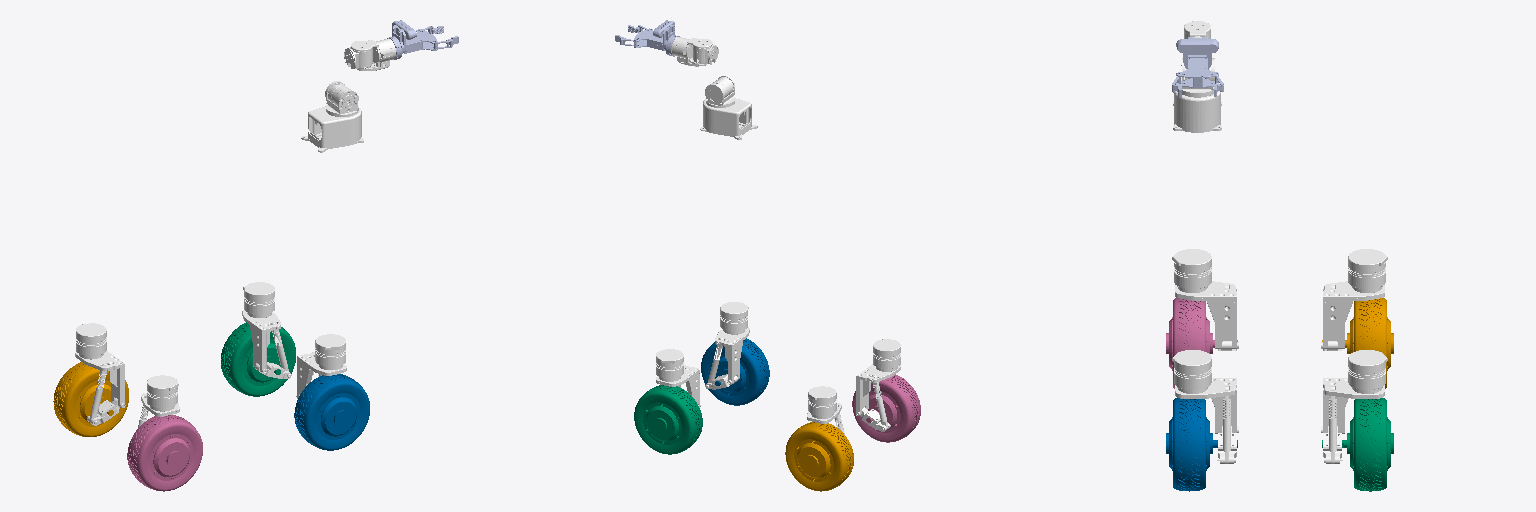
--- What the picture shows (computed from the rendered views, not written in the file) ---
3 views of the same robot in one strip: view 1: azimuth 30°, elevation 25°; view 2: azimuth 150°, elevation 25°; view 3: azimuth 270°, elevation 25° (orthographic).
Robot: AIRBOT_V3_v2 — 24 links, 23 joints (18 revolute, 5 fixed); root link car_base_link; default pose: every joint at zero.
Visible links, largest first — view 1: wheel2, wheel3, wheel4, wheel1, steering4, steering1, arm_base, steering2, steering3, gripper_link, link1, link5; view 2: wheel4, wheel1, wheel3, wheel2, steering3, steering2, arm_base, steering1, steering4, gripper_link, link1, link5; view 3: steering1, steering2, wheel1, wheel2, steering3, steering4, wheel3, wheel4, arm_base, gripper_link.
Boxes of the visible links, box(x1,y1,x2,y2) form: wheel2: box(294, 374, 369, 450); wheel3: box(127, 415, 202, 491); wheel4: box(53, 362, 128, 436); wheel1: box(221, 322, 295, 396); steering4: box(75, 323, 125, 425); steering1: box(242, 282, 291, 378); arm_base: box(301, 106, 363, 152); steering2: box(296, 334, 346, 398); steering3: box(138, 375, 179, 427); gripper_link: box(387, 20, 437, 59); link1: box(325, 81, 358, 116); link5: box(351, 38, 395, 70); wheel4: box(785, 422, 853, 491); wheel1: box(634, 385, 702, 454); wheel3: box(852, 374, 920, 442); wheel2: box(701, 338, 769, 405); steering3: box(856, 339, 900, 431); steering2: box(705, 302, 749, 389); arm_base: box(700, 98, 757, 139); steering1: box(656, 349, 700, 407); steering4: box(807, 386, 844, 434); gripper_link: box(634, 20, 679, 56); link1: box(705, 76, 734, 107); link5: box(672, 37, 712, 66); steering1: box(1321, 350, 1387, 463); steering2: box(1172, 350, 1238, 463); wheel1: box(1322, 398, 1393, 491); wheel2: box(1166, 398, 1237, 491); steering3: box(1172, 249, 1238, 350); steering4: box(1321, 249, 1387, 350); wheel3: box(1166, 298, 1237, 388); wheel4: box(1322, 298, 1393, 388); arm_base: box(1173, 77, 1221, 132); gripper_link: box(1176, 37, 1218, 87).
Bounding box of the posed robot: 0.9591 × 0.48 × 1.14 m (x, y, z).
Meshes: 16 distinct files referenced, 18 mesh visuals loaded (2 binary STL, 11 OBJ); not drawn: 3 (reference not matched to a file when rendering).

URDF robot description (AIRBOT_V3_v2):
<?xml version="1.0" encoding="utf-8"?>
<!-- This URDF was automatically created by SolidWorks to URDF Exporter! Originally created by Stephen Brawner ([email redacted]) 
     Commit Version: 1.6.0-4-g7f85cfe  Build Version: 1.6.7995.38578
     For more information, please see http://wiki.ros.org/sw_urdf_exporter -->
<robot
  name="AIRBOT_V3_v2">
  <mujoco>
    <compiler meshdir="../all/" balanceinertia="true" discardvisual="false" />
  </mujoco>
  <link
    name="car_base_link">
    <inertial>
      <origin
        xyz="-0.0124323372191195 -0.000168577813282202 0.0371705356530249"
        rpy="0 0 0" />
      <mass
        value="0.36733" />
      <inertia
        ixx="0.00045941"
        ixy="0.00000455"
        ixz="-0.00000225"
        iyy="0.00072656"
        iyz="-0.00000316"
        izz="0.00089115" />
    </inertial>
    <visual>
      <origin
        xyz="0 0 0"
        rpy="3.14159 0 0" />
      <geometry>
        <mesh
          filename="../all/rm2_1122.obj" />
      </geometry>
      <material
        name="diffuse_Black">
      </material>
    </visual>
    <collision>
      <origin
        xyz="0 0 0"
        rpy="0 0 0" />
      <geometry>
        <mesh
          filename="../all/rm2_1122.obj" />
      </geometry>
    </collision>
  </link>
  <link
    name="steering1">
    <inertial>
      <origin
        xyz="-0.0124323372191195 -0.000168577813282202 0.0371705356530249"
        rpy="0 0 0" />
      <mass
        value="0.36733" />
      <inertia
        ixx="0.00045941"
        ixy="0.00000455"
        ixz="-0.00000225"
        iyy="0.00072656"
        iyz="-0.00000316"
        izz="0.00089115" />
    </inertial>
    <visual>
      <origin
        xyz="-0.0025 -0.028 -0.1"
        rpy="0 0 0" />
      <geometry>
        <mesh
          filename="../all/steering_left_front.STL" />
      </geometry>
      <material
        name="">
        <color
          rgba="1 1 1 1" />
      </material>
    </visual>
    <collision>
      <origin
        xyz="-0.0025 -0.028 -0.1"
        rpy="0 0 0" />
      <geometry>
        <mesh
          filename="../all/steering_left_front.STL" />
      </geometry>
    </collision>
  </link>
  <joint
    name="steer_joint1"
    type="revolute">
    <origin
      xyz="0.2585 0.184 -0.228"
      rpy="0 0 0" />
    <parent
      link="car_base_link" />
    <child
      link="steering1" />
    <axis
      xyz="0 0 1" />

    <limit
      lower="-10"
      upper="10"
      effort="100"
      velocity="110" />
  </joint>
  <link
    name="wheel1">
    <inertial>
      <origin
        xyz="-0.0124323372191195 -0.000168577813282202 0.0371705356530249"
        rpy="0 0 0" />
      <mass
        value="0.36733" />
      <inertia
        ixx="0.00045941"
        ixy="0.00000455"
        ixz="-0.00000225"
        iyy="0.00072656"
        iyz="-0.00000316"
        izz="0.00089115" />
    </inertial>
    <visual>
      <origin
        xyz="0 0 0"
        rpy="0 3.1416 0" />
      <geometry>
        <mesh
          filename="../all/wheel.obj" />
      </geometry>
      <material
        name="diffuse_Black">
      </material>
    </visual>
    <collision>
      <origin
        xyz="0 0 0"
        rpy="0 3.1416 0" />
      <geometry>
        <cylinder 
          radius = "0.1"
          length = "0.1"/>
      </geometry>
    </collision>
  </link>
  <joint
    name="wheel_joint1"
    type="revolute">
    <origin
      xyz="0 -0.02 -0.185"
      rpy="1.5708 0 0" />
    <parent
      link="steering1" />
    <child
      link="wheel1" />
    <axis
      xyz="0 0 1" />
    <limit
      lower="-10"
      upper="10"
      effort="100"
      velocity="110" />
  </joint>
  
  
  
  <link
    name="steering2">
    <inertial>
      <origin
        xyz="-0.0124323372191195 -0.000168577813282202 0.0371705356530249"
        rpy="0 0 0" />
      <mass
        value="0.36733" />
      <inertia
        ixx="0.00045941"
        ixy="0.00000455"
        ixz="-0.00000225"
        iyy="0.00072656"
        iyz="-0.00000316"
        izz="0.00089115" />
    </inertial>
    <visual>
      <origin
        xyz="-0.0025 0.028 -0.1"
        rpy="0 0 3.1416" />
      <geometry>
        <mesh
          filename="../all/steering_right_front.STL" />
      </geometry>
      <material
        name="">
        <color
          rgba="1 1 1 1" />
      </material>
    </visual>
    <collision>
      <origin
        xyz="-0.0025 0.028 -0.1"
        rpy="0 0 3.1416" />
      <geometry>
        <mesh
          filename="../all/steering_right_front.STL" />
      </geometry>
    </collision>
  </link>
  <link
    name="wheel2">
    <inertial>
      <origin
        xyz="-0.0124323372191195 -0.000168577813282202 0.0371705356530249"
        rpy="0 0 0" />
      <mass
        value="0.36733" />
      <inertia
        ixx="0.00045941"
        ixy="0.00000455"
        ixz="-0.00000225"
        iyy="0.00072656"
        iyz="-0.00000316"
        izz="0.00089115" />
    </inertial>
    <visual>
      <origin
        xyz="0 0 0"
        rpy="0 0 0" />
      <geometry>
        <mesh
          filename="../all/wheel.obj" />
      </geometry>
      <material
        name="diffuse_Black">
      </material>
    </visual>
    <collision>
      <origin
        xyz="0 0 0"
        rpy="0 0 0" />
      <geometry>
        <cylinder 
            radius = "0.1"
            length = "0.1"/>
      </geometry>
    </collision>
  </link>
  <joint
    name="wheel_joint2"
    type="revolute">
    <origin
      xyz="0 0.02 -0.185"
      rpy="1.5708 0 0" />
    <parent
      link="steering2" />
    <child
      link="wheel2" />
    <axis
      xyz="0 0 1" />
    <limit
      lower="-10"
      upper="10"
      effort="100"
      velocity="110" />
  </joint>
  
  
  <joint
    name="steer_joint2"
    type="revolute">
    <origin
      xyz="0.2585 -0.184 -0.228"
      rpy="0 0 0" />
    <parent
      link="car_base_link" />
    <child
      link="steering2" />
    <axis
      xyz="0 0 1" />

    <limit
      lower="-10"
      upper="10"
      effort="100"
      velocity="110" />
  </joint>
  <link
    name="steering3">
    <inertial>
      <origin
        xyz="-0.0124323372191195 -0.000168577813282202 0.0371705356530249"
        rpy="0 0 0" />
      <mass
        value="0.36733" />
      <inertia
        ixx="0.00045941"
        ixy="0.00000455"
        ixz="-0.00000225"
        iyy="0.00072656"
        iyz="-0.00000316"
        izz="0.00089115" />
    </inertial>
    <visual>
      <origin
        xyz="-0.0025 0.028 -0.1"
        rpy="0 0 3.1416" />
      <geometry>
        <mesh
          filename="../all/steering_left_front.STL" />
      </geometry>
      <material
        name="">
        <color
          rgba="1 1 1 1" />
      </material>
    </visual>
    <collision>
      <origin
        xyz="-0.0025 0.028 -0.1"
        rpy="0 0 3.1416" />
      <geometry>
        <mesh
          filename="../all/steering_left_front.STL" />
      </geometry>
    </collision>
  </link>
  <joint
    name="steer_joint3"
    type="revolute">
    <origin
      xyz="-0.238 -0.184 -0.228"
      rpy="0 0 0" />
    <parent
      link="car_base_link" />
    <child
      link="steering3" />
    <axis
      xyz="0 0 1" />
    <limit
      lower="-10"
      upper="10"
      effort="100"
      velocity="110" />
  </joint>
  <link
    name="wheel3">
    <inertial>
      <origin
        xyz="-0.0124323372191195 -0.000168577813282202 0.0371705356530249"
        rpy="0 0 0" />
      <mass
        value="0.36733" />
      <inertia
        ixx="0.00045941"
        ixy="0.00000455"
        ixz="-0.00000225"
        iyy="0.00072656"
        iyz="-0.00000316"
        izz="0.00089115" />
    </inertial>
    <visual>
      <origin
        xyz="0 0 0"
        rpy="0 0 0" />
      <geometry>
        <mesh
          filename="../all/wheel.obj" />
      </geometry>
      <material
        name="diffuse_Black">
      </material>
    </visual>
    <collision>
      <origin
        xyz="0 0 0"
        rpy="0 0 0" />
      <geometry>
        <cylinder 
          radius = "0.1"
          length = "0.1"/>
      </geometry>
    </collision>
  </link>
  <joint
    name="wheel_joint3"
    type="revolute">
    <origin
      xyz="0 0.02 -0.185"
      rpy="1.5708 0 0" />
    <parent
      link="steering3" />
    <child
      link="wheel3" />
    <axis
      xyz="0 0 1" />
    <limit
      lower="-10"
      upper="10"
      effort="100"
      velocity="110" />
  </joint>
  
  
  <link
    name="steering4">
    <inertial>
      <origin
        xyz="-0.0124323372191195 -0.000168577813282202 0.0371705356530249"
        rpy="0 0 0" />
      <mass
        value="0.36733" />
      <inertia
        ixx="0.00045941"
        ixy="0.00000455"
        ixz="-0.00000225"
        iyy="0.00072656"
        iyz="-0.00000316"
        izz="0.00089115" />
    </inertial>
    <visual>
      <origin
        xyz="-0.0025 -0.028 -0.1"
        rpy="0 0 0" />
      <geometry>
        <mesh
          filename="../all/steering_right_front.STL" />
      </geometry>
      <material
        name="">
        <color
          rgba="1 1 1 1" />
      </material>
    </visual>
    <collision>
      <origin
        xyz="-0.0025 -0.028 -0.1"
        rpy="0 0 0" />
      <geometry>
        <mesh
          filename="../all/steering_right_front.STL" />
      </geometry>
    </collision>
  </link>
  <joint
    name="steer_joint4"
    type="revolute">
    <origin
      xyz="-0.238 0.184 -0.228"
      rpy="0 0 0" />
    <parent
      link="car_base_link" />
    <child
      link="steering4" />
    <axis
      xyz="0 0 1" />
    <limit
      lower="-10"
      upper="10"
      effort="100"
      velocity="110" />
  </joint>
  <link
    name="wheel4">
    <inertial>
      <origin
        xyz="-0.0124323372191195 -0.000168577813282202 0.0371705356530249"
        rpy="0 0 0" />
      <mass
        value="0.36733" />
      <inertia
        ixx="0.00045941"
        ixy="0.00000455"
        ixz="-0.00000225"
        iyy="0.00072656"
        iyz="-0.00000316"
        izz="0.00089115" />
    </inertial>
    <visual>
      <origin
        xyz="0 0 0"
        rpy="0 3.1416 0" />
      <geometry>
        <mesh
          filename="../all/wheel.obj" />
      </geometry>
      <material
        name="diffuse_Black">
      </material>
    </visual>
    <collision>
      <origin
        xyz="0 0 0"
        rpy="0 3.1416 0" />
      <geometry>
        <cylinder 
          radius = "0.1"
          length = "0.1"/>
      </geometry>
    </collision>
  </link>
  <joint
    name="wheel_joint4"
    type="revolute">
    <origin
      xyz="0 -0.02 -0.185"
      rpy="1.5708 0 0" />
    <parent
      link="steering4" />
    <child
      link="wheel4" />
    <axis
      xyz="0 0 1" />
    <limit
      lower="-10"
      upper="10"
      effort="100"
      velocity="110" />
  </joint>

  <link
    name="arm_base">
    <inertial>
      <origin
        xyz="-0.029112 -4.9618E-05 0.037384"
        rpy="0 0 0" />
      <mass
        value="0.15758" />
      <inertia
        ixx="0.00020705"
        ixy="1.1867E-06"
        ixz="2.8584E-06"
        iyy="0.00027968"
        iyz="2.2254E-06"
        izz="0.00038174" />
    </inertial>
    <visual>
      <origin
        xyz="0 0 0"
        rpy="0 0 0" />
      <geometry>
        <mesh
          filename="../all/base_link.obj" />
      </geometry>
      <material
        name="Plaster (1)">
        <color
          rgba="1 1 1 1" />
      </material>
    </visual>
    <collision>
      <origin
        xyz="0 0 0"
        rpy="0 0 0" />
      <geometry>
        <mesh
          filename="../all/base_link.obj" />
      </geometry>
    </collision>
  </link>
  <joint
    name="joint0"
    type="fixed">
    <origin
      xyz="0.2975 -0.17309 0.3488"
      rpy="0 0 0" />
    <parent
      link="car_base_link" />
    <child
      link="arm_base" />
  </joint>
  <link
    name="link1">
    <inertial>
      <origin
        xyz="3.6472E-06 -0.0049778 -0.0097341"
        rpy="0 0 0" />
      <mass
        value="0.10631" />
      <inertia
        ixx="4.2478E-05"
        ixy="-1.0356E-09"
        ixz="7.3521E-09"
        iyy="5.9445E-05"
        iyz="5.0371E-06"
        izz="5.3189E-05" />
    </inertial>
    <visual>
      <origin
        xyz="0 0 0"
        rpy="0 0 0" />
      <geometry>
        <mesh
          filename="../all/link1.obj" />
      </geometry>
      <material
        name="Plaster (2)">
        <color
          rgba="1 1 1 1" />
      </material>
    </visual>
    <collision>
      <origin
        xyz="0 0 0"
        rpy="0 0 0" />
      <geometry>
        <mesh
          filename="../all/link1.obj" />
      </geometry>
    </collision>
  </link>
  <joint
    name="joint1"
    type="revolute">
    <origin
      xyz="0 2.4795E-05 0.117"
      rpy="0 0 0" />
    <parent
      link="arm_base" />
    <child
      link="link1" />
    <axis
      xyz="0 0 1" />
    <limit
      lower="-10"
      upper="10"
      effort="100"
      velocity="110" />
  </joint>
  <link
    name="link2">
    <inertial>
      <origin
        xyz="0.16303 0.01241 0.0045681"
        rpy="0 0 0" />
      <mass
        value="0.2275" />
      <inertia
        ixx="0.00011733"
        ixy="-7.1761E-05"
        ixz="1.7806E-05"
        iyy="0.0014114"
        iyz="2.8994E-06"
        izz="0.0014746" />
    </inertial>
    <visual>
      <origin
        xyz="0.271 0.004 0.0"
        rpy="0 0 -0.58" />
      <geometry>
        <mesh
          filename="../all/link2.obj" />
      </geometry>
      <material
        name="Plaster">
        <color
          rgba="1 1 1 1" />
      </material>
    </visual>
    <collision>
      <origin
        xyz="0.271 0.004 0.0"
        rpy="0 0 -0.58" />
      <geometry>
        <mesh
          filename="../all/link2.obj" />
      </geometry>
    </collision>
  </link>
  <joint
    name="joint2"
    type="revolute">
    <origin
      xyz="0 0 0"
      rpy="-1.5708 -0.38673 3.1416" />
    <parent
      link="link1" />
    <child
      link="link2" />
    <axis
      xyz="0 0 1" />
    <limit
      lower="-10"
      upper="10"
      effort="100"
      velocity="110" />
  </joint>
  <link
    name="link3">
    <inertial>
      <origin
        xyz="0.031865 -3.16931 -0.94181"
        rpy="0 0 0" />
      <mass
        value="0.004117" />
      <inertia
        ixx="0.00041644"
        ixy="-4.7139E-07"
        ixz="-2.1254E-09"
        iyy="7.1543E-05"
        iyz="3.7878E-06"
        izz="0.00042197" />
    </inertial>
    <visual>
      <origin
        xyz="0 0 0"
        rpy="0 0 0" />
      <geometry>
        <mesh
          filename="../all/link3.obj" />
      </geometry>
      <material
        name="Plaster (2)">
      </material>
    </visual>
    <collision>
      <origin
        xyz="0 0 0"
        rpy="0 0 0" />
      <geometry>
        <mesh
          filename="../all/link3.obj" />
      </geometry>
    </collision>
  </link>
  <joint
    name="joint3"
    type="revolute">
    <origin
      xyz="0.27009 0 0"
      rpy="0 0 -1.1841" />
    <parent
      link="link2" />
    <child
      link="link3" />
    <axis
      xyz="0 0 1" />
    <limit
      lower="-10"
      upper="10"
      effort="100"
      velocity="110" />
  </joint>
  <link
    name="link4">
    <inertial>
      <origin
        xyz="-0.0051834 0.00019368 -0.0082929"
        rpy="0 0 0" />
      <mass
        value="0.057816" />
      <inertia
        ixx="3.2684E-05"
        ixy="-2.4663E-09"
        ixz="5.0516E-06"
        iyy="2.5781E-05"
        iyz="-1.1525E-09"
        izz="2.1405E-05" />
    </inertial>
    <visual>
      <origin
        xyz="0 0 0"
        rpy="0 0 0" />
      <geometry>
        <mesh
          filename="../all/link4.obj" />
      </geometry>
      <material
        name="">
        <color
          rgba="1 1 1 1" />
      </material>
    </visual>
    <collision>
      <origin
        xyz="0 0 0"
        rpy="0 0 0" />
      <geometry>
        <mesh
          filename="../all/link4.obj" />
      </geometry>
    </collision>
  </link>
  <joint
    name="joint4"
    type="revolute">
    <origin
      xyz="0.0029191 -0.30866 0"
      rpy="1.5708 0 0" />
    <parent
      link="link3" />
    <child
      link="link4" />
    <axis
      xyz="0 0 1" />
    <limit
      lower="-10"
      upper="10"
      effort="100"
      velocity="110" />
  </joint>
  <link
    name="link5">
    <inertial>
      <origin
        xyz="-0.039982 -0.00063731 -0.0029755"
        rpy="0 0 0" />
      <mass
        value="0.071803" />
      <inertia
        ixx="3.5881E-05"
        ixy="-1.0415E-07"
        ixz="-6.6076E-06"
        iyy="3.823E-05"
        iyz="1.4119E-08"
        izz="3.7202E-05" />
    </inertial>
    <visual>
      <origin
        xyz="0 0 0"
        rpy="0 0 0" />
      <geometry>
        <mesh
          filename="../all/link5.obj" />
      </geometry>
      <material
        name="Plaster (2)">
        <color
          rgba="1 1 1 1" />
      </material>
    </visual>
    <collision>
      <origin
        xyz="0 0 0"
        rpy="0 0 0" />
      <geometry>
        <mesh
          filename="../all/link5.obj" />
      </geometry>
    </collision>
  </link>
  <joint
    name="joint5"
    type="revolute">
    <origin
      xyz="0 0 0"
      rpy="0 1.5708 0" />
    <parent
      link="link4" />
    <child
      link="link5" />
    <axis
      xyz="0 0 1" />
    <limit
      lower="-10"
      upper="10"
      effort="100"
      velocity="110" />
  </joint>
  <link
    name="link6">
    <inertial>
      <origin
        xyz="-2.3008E-11 3.2452E-12 -0.0024166"
        rpy="0 0 0" />
      <mass
        value="0.0026503" />
      <inertia
        ixx="3.2947E-07"
        ixy="3.5857E-16"
        ixz="1.0908E-16"
        iyy="3.2947E-07"
        iyz="2.3536E-16"
        izz="6.4653E-07" />
    </inertial>
    <visual>
      <origin
        xyz="0 0 0"
        rpy="0 0 0" />
      <geometry>
        <mesh
          filename="../all/link6.obj" />
      </geometry>
      <material
        name="lambert2SG">
        <color
          rgba="1 1 1 1" />
      </material>
    </visual>
    <collision>
      <origin
        xyz="0 0 0"
        rpy="0 0 0" />
      <geometry>
        <mesh
          filename="../all/link6.obj" />
      </geometry>
    </collision>
  </link>
  <joint
    name="joint6"
    type="revolute">
    <origin
      xyz="-0.0865 0 -0.002749"
      rpy="3.1416 -1.5708 0" />
    <parent
      link="link5" />
    <child
      link="link6" />
    <axis
      xyz="0 0 1" />
    <limit
      lower="-10"
      upper="10"
      effort="100"
      velocity="110" />
  </joint>


  <link
    name="gripper_link">
    <inertial>
      <origin
        xyz="-0.000179 -0.012920 0.115245"
        rpy="0 0 0" />
      <mass
        value="0.202483822224683" />
      <inertia
        ixx="8.72656224038094E-05"
        ixy="2.1157802312087E-09"
        ixz="4.46212258304102E-07"
        iyy="0.000110884338373626"
        iyz="3.53923491606382E-06"
        izz="9.50216775187288E-05" />
    </inertial>
    <visual>
      <origin
        xyz="0 0 -0.003"
        rpy="0 0 0" />
      <geometry>
        <mesh
          filename="../all/gripper_link.obj" />
      </geometry>
      <material
        name="phong1SG">
        <color
          rgba="0.792156862745098 0.819607843137255 0.933333333333333 1" />
      </material>
    </visual>
    <collision>
      <origin
        xyz="0 0 -0.003"
        rpy="0 0 0" />
      <geometry>
        <mesh
          filename="../all/gripper_link.obj" />
      </geometry>
    </collision>
  </link>
  <joint
    name="joint7"
    type="fixed">
    <origin
      xyz="0 0 0.07752"
      rpy="0 3.14 1.57" />
    <parent
      link="link6" />
    <child
      link="gripper_link" />
  </joint>
  <link
    name="gripper_link10">
    <inertial>
      <origin
        xyz="0.0162376775855017 0.00170828143838967 1.60704782814491E-14"
        rpy="0 0 0" />
      <mass
        value="0.00248574193257273" />
      <inertia
        ixx="1.1187321281772E-07"
        ixy="-6.68088965340704E-19"
        ixz="-1.14085928959275E-18"
        iyy="6.84359115875508E-07"
        iyz="-3.99246934174549E-19"
        izz="5.89072994948579E-07" />
    </inertial>
    <visual>
      <origin
        xyz="0 0 0"
        rpy="0 0 0" />
      <geometry>
        <mesh
          filename="../all/gripper_link10.obj" />
      </geometry>
      <material
        name="lambert2SG">
        <color
          rgba="0.792156862745098 0.819607843137255 0.933333333333333 1" />
      </material>
    </visual>
    <collision>
      <origin
        xyz="0 0 0"
        rpy="0 0 0" />
      <geometry>
        <mesh
          filename="../all/gripper_link10.obj" />
      </geometry>
    </collision>
  </link>
  <joint
    name="joint_gripper10"
    type="revolute">
    <origin
      xyz="-0.038533 0.00036 0.18735"
      rpy="-1.5708 -1.304 3.1416" />
    <parent
      link="gripper_link" />
    <child
      link="gripper_link10" />
    <axis
      xyz="0 0 1" />
    <limit
      lower="-10"
      upper="10"
      effort="100"
      velocity="110" />
  </joint>
  <link
    name="gripper_link11">
    <inertial>
      <origin
        xyz="-0.0110043692378349 0.00972866237979003 -3.15436854414486E-09"
        rpy="0 0 0" />
      <mass
        value="0.00450681926243327" />
      <inertia
        ixx="1.99225999101227E-07"
        ixy="9.189631443366E-08"
        ixz="1.32669175648538E-13"
        iyy="5.14550853833888E-07"
        iyz="-4.49972931710022E-14"
        izz="5.32027763416069E-07" />
    </inertial>
    <visual>
      <origin
        xyz="0 0 0"
        rpy="0 0 0" />
      <geometry>
        <mesh
          filename="../all/gripper_link11.obj" />
      </geometry>
      <material
        name="lambert2SG">
        <color
          rgba="0.792156862745098 0.819607843137255 0.933333333333333 1" />
      </material>
    </visual>
    <collision>
      <origin
        xyz="0 0 0"
        rpy="0 0 0" />
      <geometry>
        <mesh
          filename="../all/gripper_link11.obj" />
      </geometry>
    </collision>
  </link>
  <joint
    name="joint_gripper11"
    type="revolute">
    <origin
      xyz="0.041998 -0.00037577 0"
      rpy="0 0 2.8658" />
    <parent
      link="gripper_link10" />
    <child
      link="gripper_link11" />
    <axis
      xyz="0 0 1" />
    <limit
      lower="-10"
      upper="10"
      effort="100"
      velocity="110" />
  </joint>
  <link
    name="gripper_link20">
    <inertial>
      <origin
        xyz="0.0160458916846533 0.00170815882510347 -1.61815005839117E-14"
        rpy="0 0 0" />
      <mass
        value="0.0024857419325728" />
      <inertia
        ixx="1.11873212817726E-07"
        ixy="6.5445041140093E-19"
        ixz="1.13838047913434E-18"
        iyy="6.84359115875493E-07"
        iyz="-3.98790262211301E-19"
        izz="5.8907299494856E-07" />
    </inertial>
    <visual>
      <origin
        xyz="0 0 0"
        rpy="0 0 0" />
      <geometry>
        <mesh
          filename="../all/gripper_link20.obj" />
      </geometry>
      <material
        name="lambert2SG">
        <color
          rgba="0.792156862745098 0.819607843137255 0.933333333333333 1" />
      </material>
    </visual>
    <collision>
      <origin
        xyz="0 0 0"
        rpy="0 0 0" />
      <geometry>
        <mesh
          filename="../all/gripper_link20.obj" />
      </geometry>
    </collision>
  </link>
  <joint
    name="joint_gripper20"
    type="revolute">
    <origin
      xyz="0.041464 0.00036 0.18664"
      rpy="1.5708 -1.304 0" />
    <parent
      link="gripper_link" />
    <child
      link="gripper_link20" />
    <axis
      xyz="0 0 1" />
    <limit
      lower="-10"
      upper="10"
      effort="100"
      velocity="110" />
  </joint>
  <link
    name="gripper_link21">
    <inertial>
      <origin
        xyz="-0.0117059608928904 -0.0140030860218414 3.11077152925776E-09"
        rpy="0 0 0" />
      <mass
        value="0.00450681912675432" />
      <inertia
        ixx="2.02615006762524E-07"
        ixy="-9.74786442765277E-08"
        ixz="-1.30502494006714E-13"
        iyy="5.11161832405036E-07"
        iyz="-4.71432886532517E-14"
        izz="5.32027750665231E-07" />
    </inertial>
    <visual>
      <origin
        xyz="0 0 0"
        rpy="0 0 0" />
      <geometry>
        <mesh
          filename="../all/gripper_link21.obj" />
      </geometry>
      <material
        name="lambert2SG">
        <color
          rgba="0.792156862745098 0.819607843137255 0.933333333333333 1" />
      </material>
    </visual>
    <collision>
      <origin
        xyz="0 0 0"
        rpy="0 0 0" />
      <geometry>
        <mesh
          filename="../all/gripper_link21.obj" />
      </geometry>
    </collision>
  </link>
  <joint
    name="joint_gripper21"
    type="revolute">
    <origin
      xyz="0.041998 -0.00037577 0"
      rpy="0 0 -2.8837" />
    <parent
      link="gripper_link20" />
    <child
      link="gripper_link21" />
    <axis
      xyz="0 0 1" />
    <limit
      lower="-10"
      upper="10"
      effort="100"
      velocity="110" />
  </joint>
  <link
    name="custom_end_link">
    <inertial>
      <origin
        xyz="0 0 0"
        rpy="0 0 0" />
      <mass
        value="1E-15" />
      <inertia
        ixx="1E-11"
        ixy="1E-15"
        ixz="1E-15"
        iyy="1E-11"
        iyz="1E-15"
        izz="1E-11" />
    </inertial>
  </link>
  <joint
    name="joint_custom_end"
    type="fixed">
    <origin
      xyz="0 0 0.255"
      rpy="1.5708 -1.5708 0" />
    <parent
      link="gripper_link" />
    <child
      link="custom_end_link" />
  </joint>

  <link
    name="livox_frame">
    <inertial>
      <origin
        xyz="0.0 0.0 0.0"
        rpy="0 0 0" />
      <mass
        value="0.0" />
      <inertia
        ixx="0.0"
        ixy="0.0"
        ixz="0.0"
        iyy="0.0"
        iyz="0.0"
        izz="0.0" />
    </inertial>
  </link>
  <joint
    name="livox_joint"
    type="fixed">
    <origin
      xyz="0.31686 0.0 0.26705"
      rpy="0 0 0" />
    <parent
      link="car_base_link" />
    <child
      link="livox_frame" />
    <axis
      xyz="0 0 1" />
  </joint>

  <link
    name="imu_link">
    <inertial>
      <origin
        xyz="0.0 0.0 0.0"
        rpy="0 0 0" />
      <mass
        value="0.0" />
      <inertia
        ixx="0.0"
        ixy="0.0"
        ixz="0.0"
        iyy="0.0"
        iyz="0.0"
        izz="0.0" />
    </inertial>
  </link>
  <joint
    name="imu_joint"
    type="fixed">
    <origin
      xyz="0.0 0.0 0.0"
      rpy="0 0 0" />
    <parent
      link="car_base_link" />
    <child
      link="imu_link" />
    <axis
      xyz="0 0 1" />
  </joint>
</robot>
